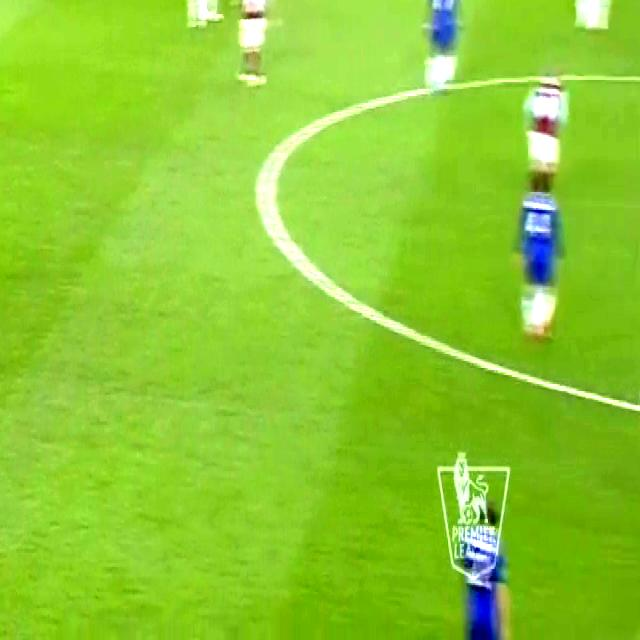soccer-player: (447, 482, 520, 639), (507, 162, 568, 349), (521, 60, 572, 203), (224, 0, 281, 101), (423, 0, 471, 100), (573, 0, 624, 39), (178, 0, 225, 34)
